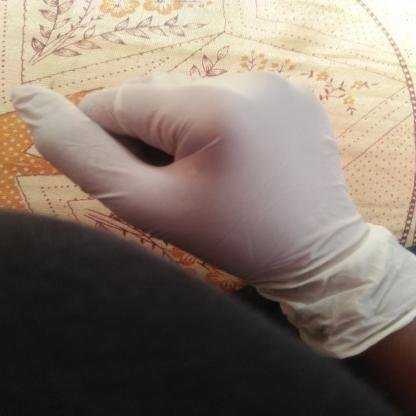gloved_hand: (10, 67, 412, 360)
